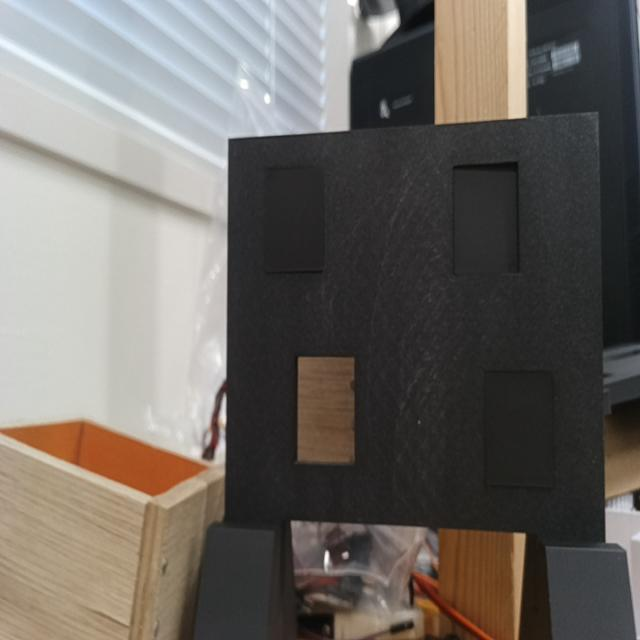Obstacle: (226, 112, 607, 538), (299, 356, 355, 465)
